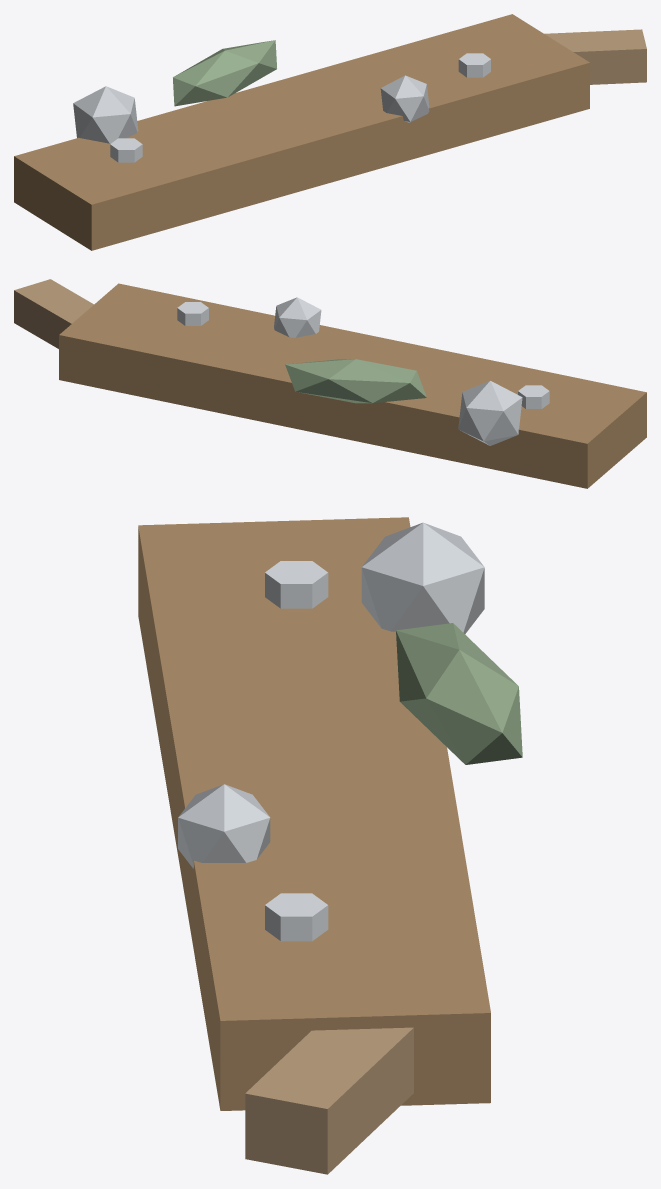
File: wreck_plank.glb
The picture shows the model from 3 angles, top to bottom: view 1: azimuth 30°, elevation 25°; view 2: azimuth 150°, elevation 25°; view 3: azimuth 270°, elevation 25°; orthographic projection. The views are drawn at different scales.
Parts seen in each view (by area): view 1: plank, seaweed, splinter, barnacle_a, barnacle_b, nail_1, nail_0; view 2: plank, seaweed, splinter, barnacle_a, barnacle_b, nail_1, nail_0; view 3: plank, splinter, seaweed, barnacle_a, barnacle_b, nail_1, nail_0.
Part boxes in pixels (x1,y1,x2,y2): plank: [14, 14, 589, 250]; seaweed: [173, 40, 276, 106]; splinter: [544, 29, 646, 84]; barnacle_a: [73, 86, 138, 143]; barnacle_b: [380, 75, 429, 122]; nail_1: [458, 53, 490, 77]; nail_0: [110, 138, 142, 162]; plank: [59, 283, 646, 488]; seaweed: [285, 359, 426, 403]; splinter: [14, 279, 93, 348]; barnacle_a: [458, 380, 522, 445]; barnacle_b: [274, 297, 321, 337]; nail_1: [177, 302, 208, 325]; nail_0: [518, 385, 549, 408]; plank: [138, 517, 490, 1110]; splinter: [245, 1027, 413, 1174]; seaweed: [396, 623, 522, 764]; barnacle_a: [361, 522, 484, 633]; barnacle_b: [178, 784, 270, 868]; nail_1: [265, 893, 328, 941]; nail_0: [265, 561, 328, 608].
Bounding box in the file's own units: 1.52 × 0.215 × 0.4252.
